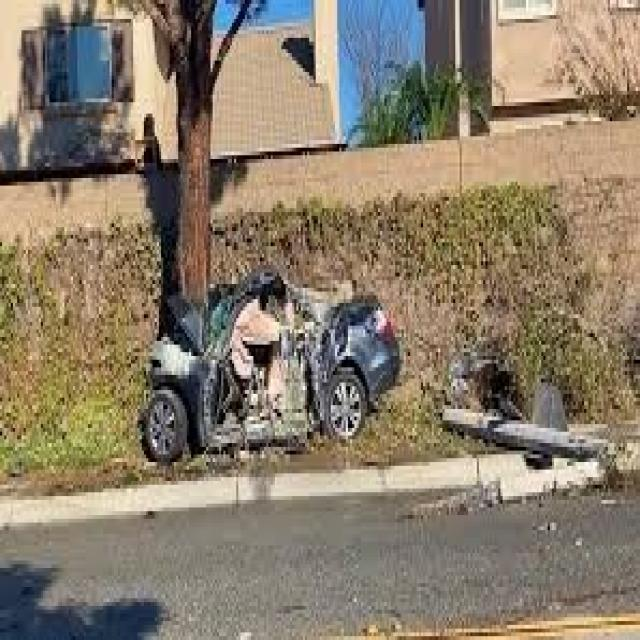accident: (133, 286, 412, 468)
